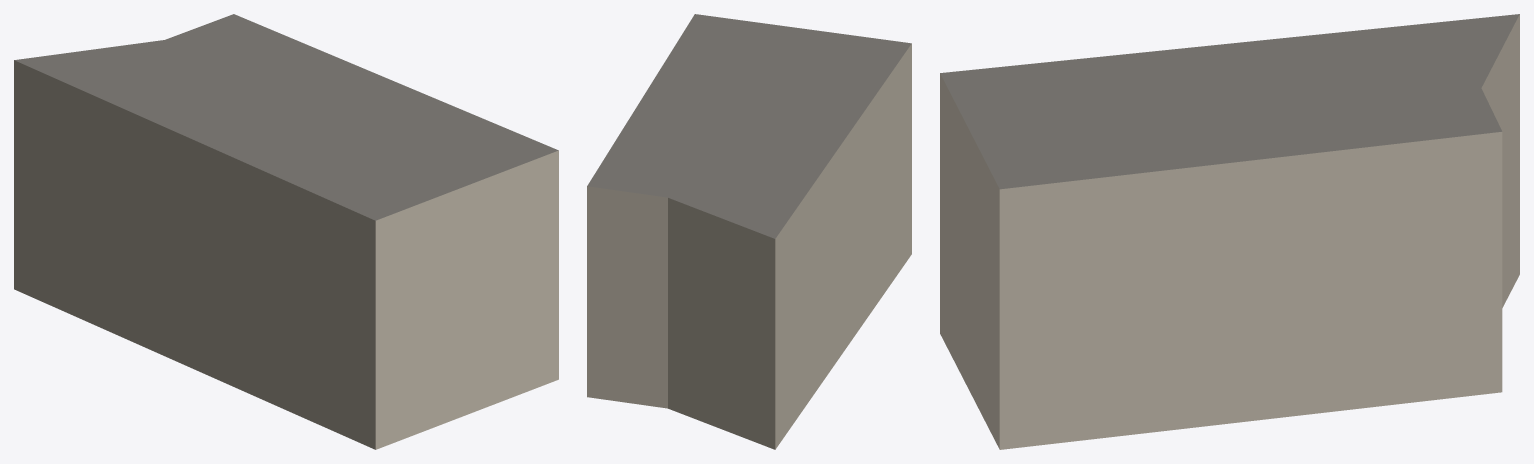
3 renders of one model, left to right at view 1: azimuth 30°, elevation 25°; view 2: azimuth 150°, elevation 25°; view 3: azimuth 270°, elevation 25°, orthographic. The views are drawn at different scales.
Visible parts, largest first — view 1: HP-w380339976; view 2: HP-w380339976; view 3: HP-w380339976.
Boxes of the visible parts, left/top/right/bottom form: HP-w380339976: left=14, top=14, right=558, bottom=449; HP-w380339976: left=587, top=14, right=911, bottom=449; HP-w380339976: left=940, top=14, right=1519, bottom=449.
Bounding box in the file's own units: 21.65 × 15 × 30.25.
